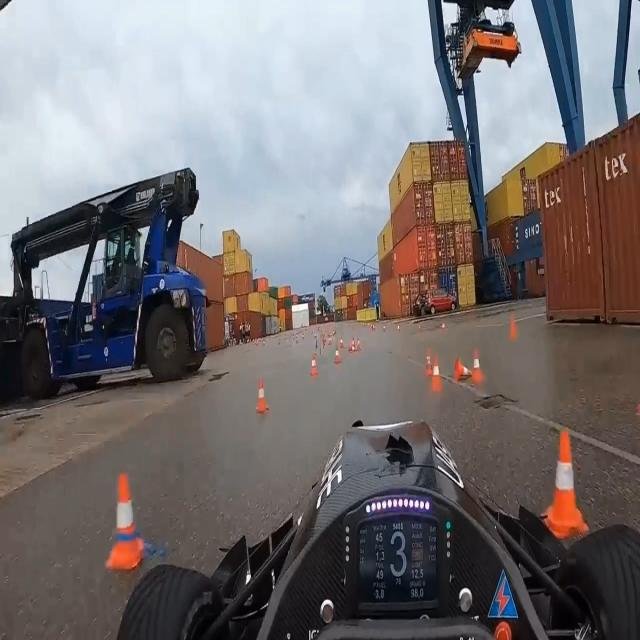Orange cone: (541, 404, 592, 560), (98, 452, 155, 585), (470, 326, 498, 416), (252, 366, 276, 428), (501, 300, 528, 348), (449, 347, 473, 394), (430, 358, 450, 403), (306, 344, 324, 389), (418, 340, 434, 381), (349, 333, 366, 358), (336, 332, 350, 354), (329, 345, 339, 373)
